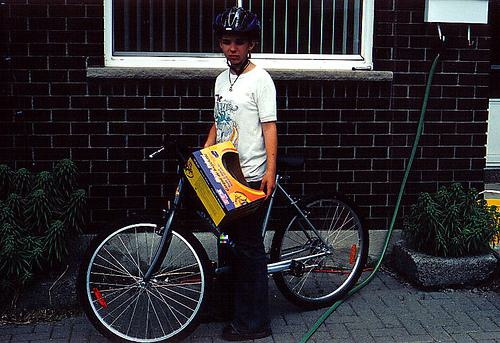car: (78, 135, 370, 343)
person: (203, 8, 278, 342)
pottedplant: (1, 159, 82, 307), (392, 183, 500, 291)
